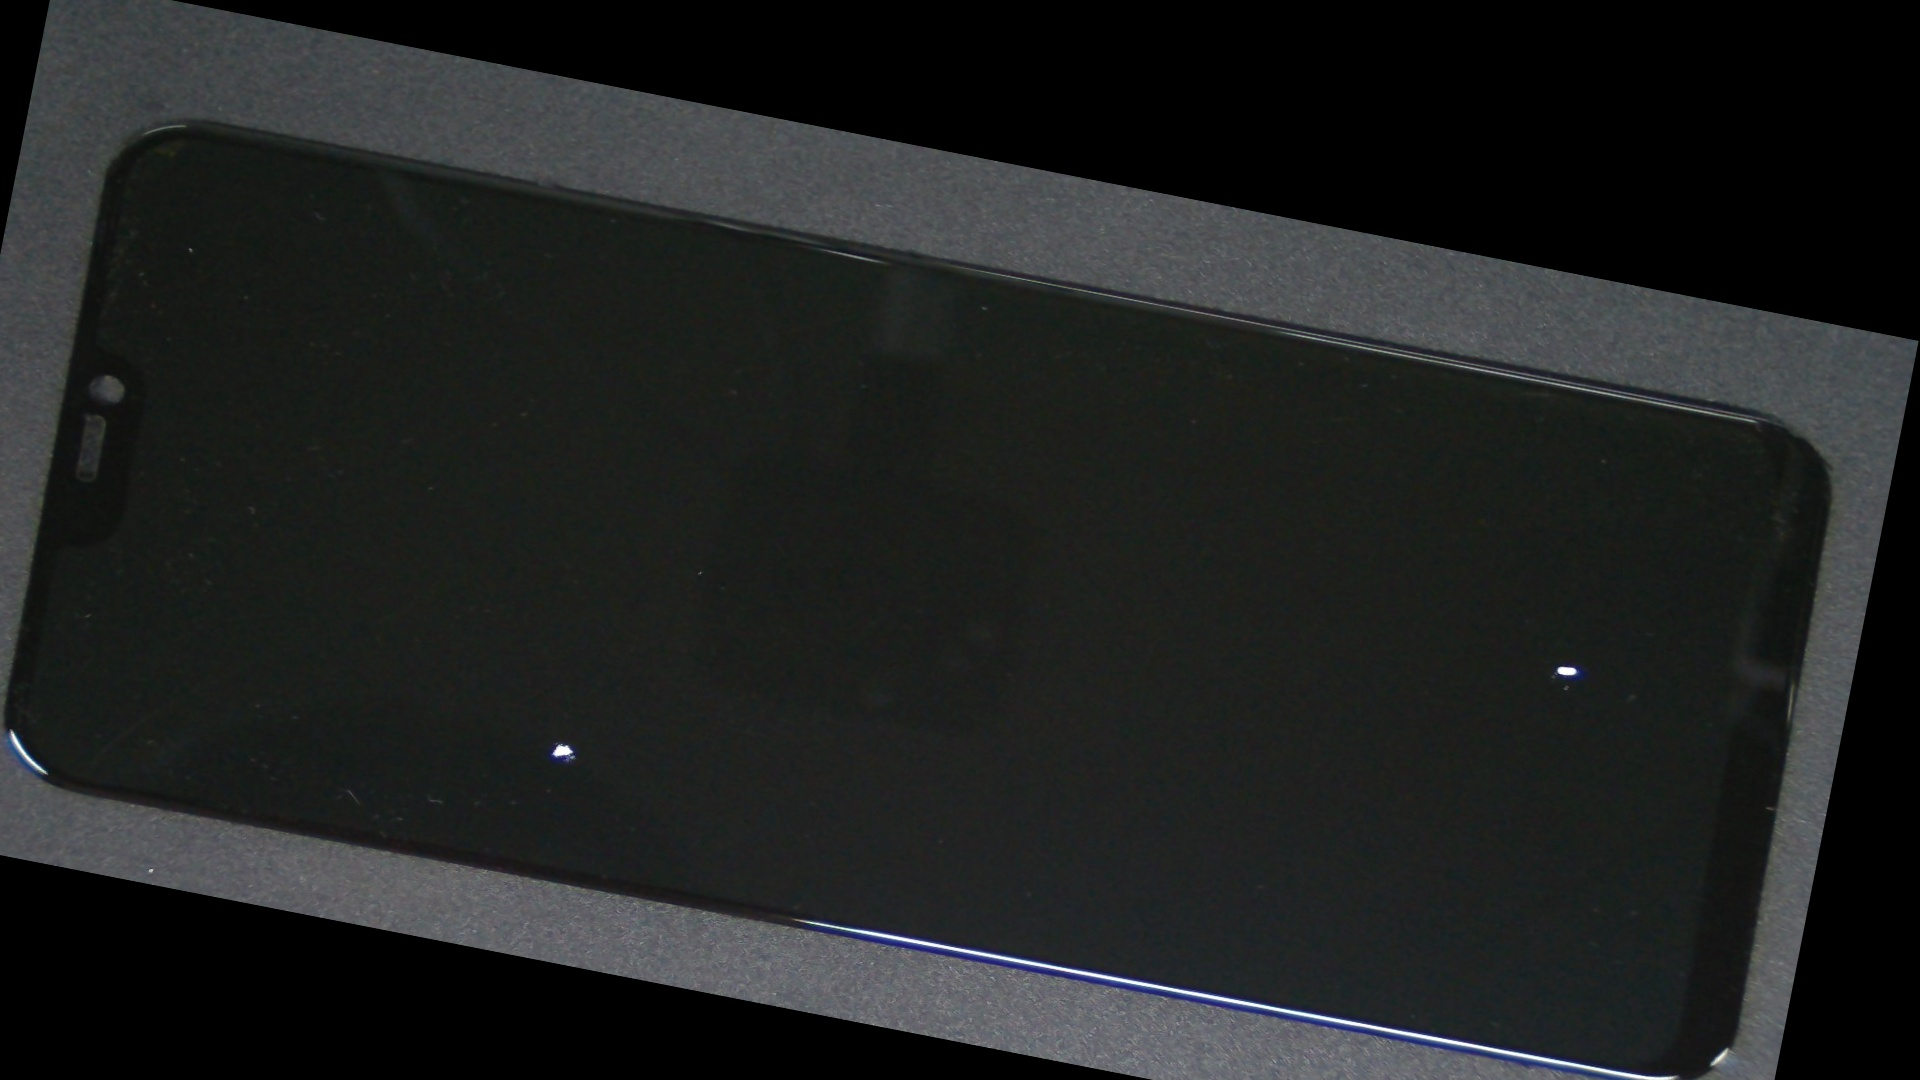oil: (741, 322, 1882, 909), (208, 360, 951, 1021)
